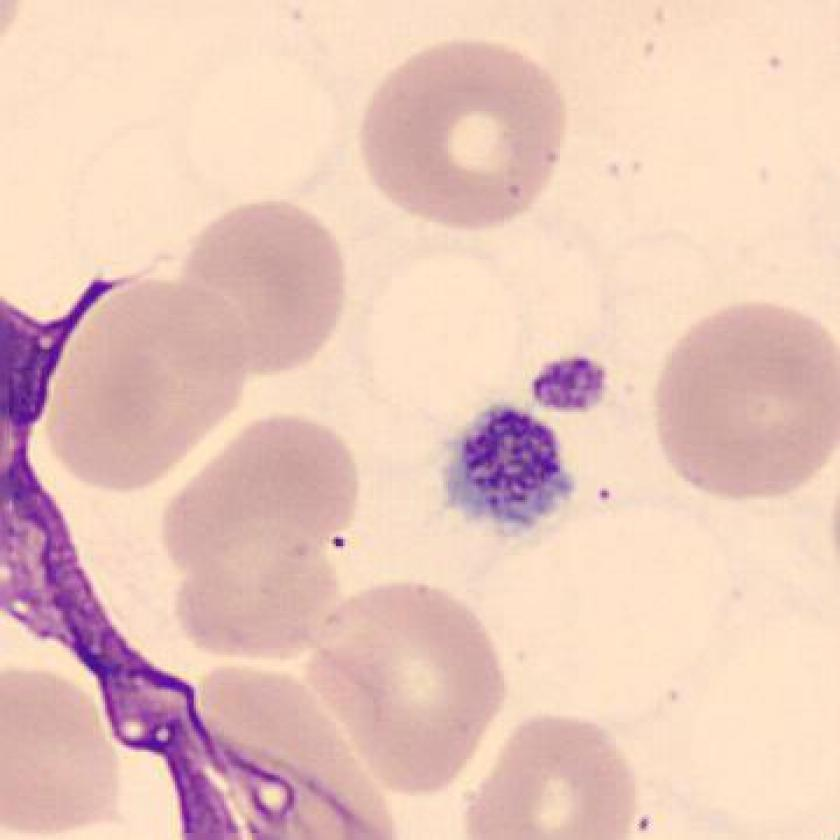platelets: (438, 399, 585, 538), (517, 337, 622, 432)
